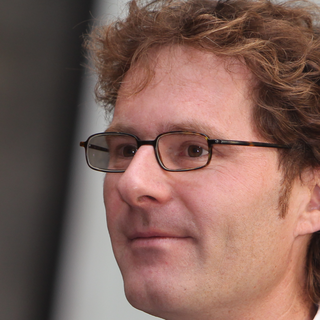eye: (174, 135, 217, 164), (107, 140, 140, 162)
